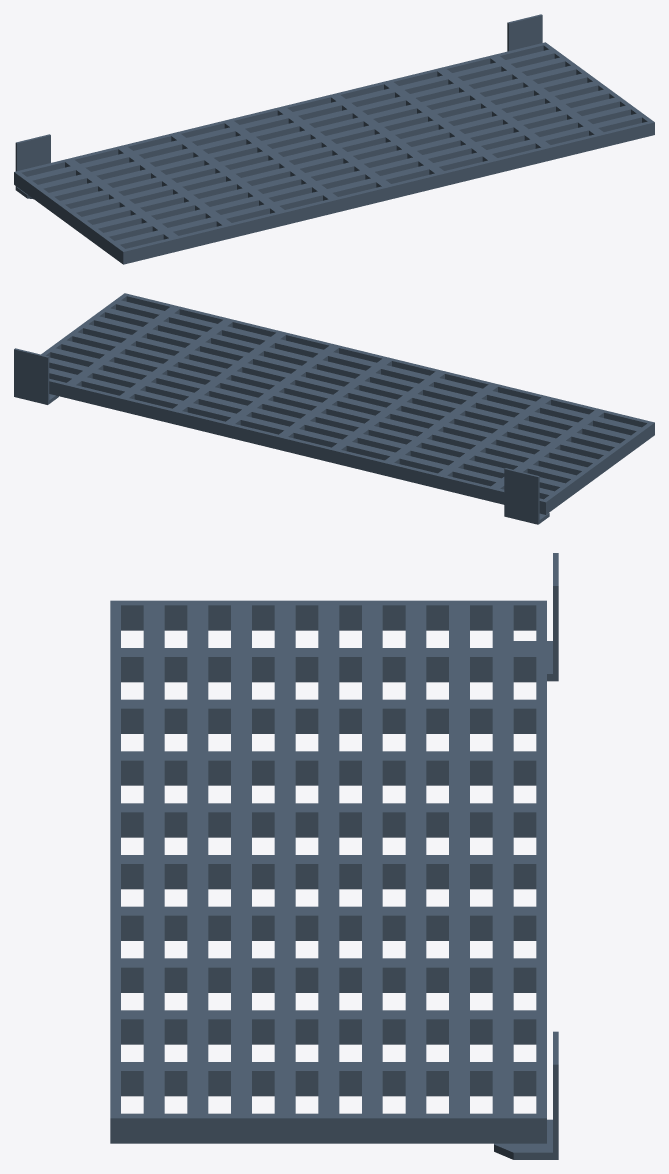
Rendered from M_Shelve low.fbx.
The picture shows the model from 3 angles, top to bottom: view 1: azimuth 30°, elevation 25°; view 2: azimuth 150°, elevation 25°; view 3: azimuth 270°, elevation 25°; orthographic projection. The views are drawn at different scales.
Visible parts, largest first — view 1: metal_shelve_03_low, metal_shelve_01_low, metal_shelve_02_low; view 2: metal_shelve_03_low, metal_shelve_01_low, metal_shelve_02_low; view 3: metal_shelve_03_low, metal_shelve_02_low, metal_shelve_01_low.
Boxes of the visible parts, bbox=[...] form: metal_shelve_03_low: bbox=[14, 42, 654, 264]; metal_shelve_01_low: bbox=[15, 134, 50, 199]; metal_shelve_02_low: bbox=[507, 14, 542, 51]; metal_shelve_03_low: bbox=[41, 293, 654, 514]; metal_shelve_01_low: bbox=[504, 468, 549, 524]; metal_shelve_02_low: bbox=[14, 348, 58, 404]; metal_shelve_03_low: bbox=[110, 600, 546, 1143]; metal_shelve_02_low: bbox=[494, 1031, 558, 1159]; metal_shelve_01_low: bbox=[513, 553, 558, 681].
Bounding box in the file's own units: 80.37 × 6.89 × 29.4.
